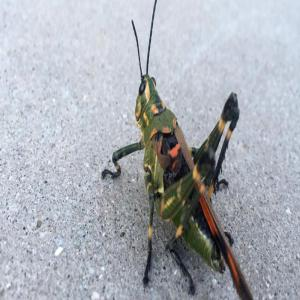locust: (126, 28, 253, 300)
